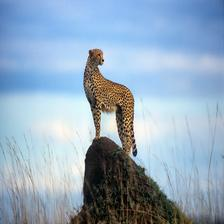Cheetah: (80, 48, 139, 159)
